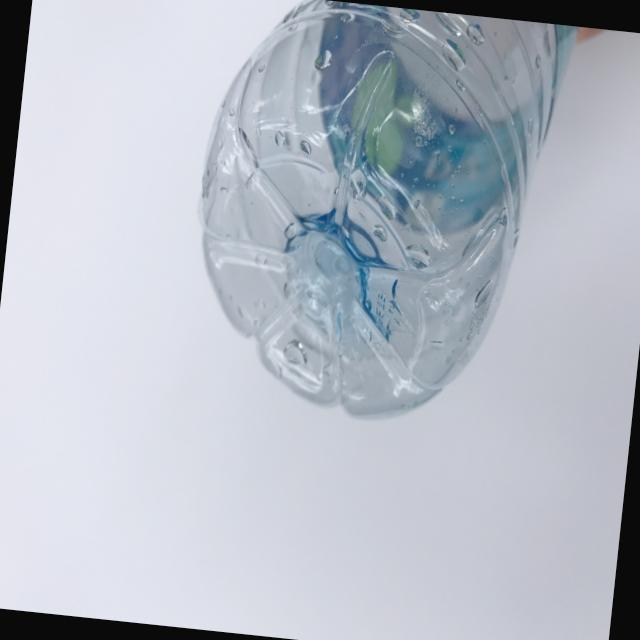Plastic: (157, 0, 587, 507)
